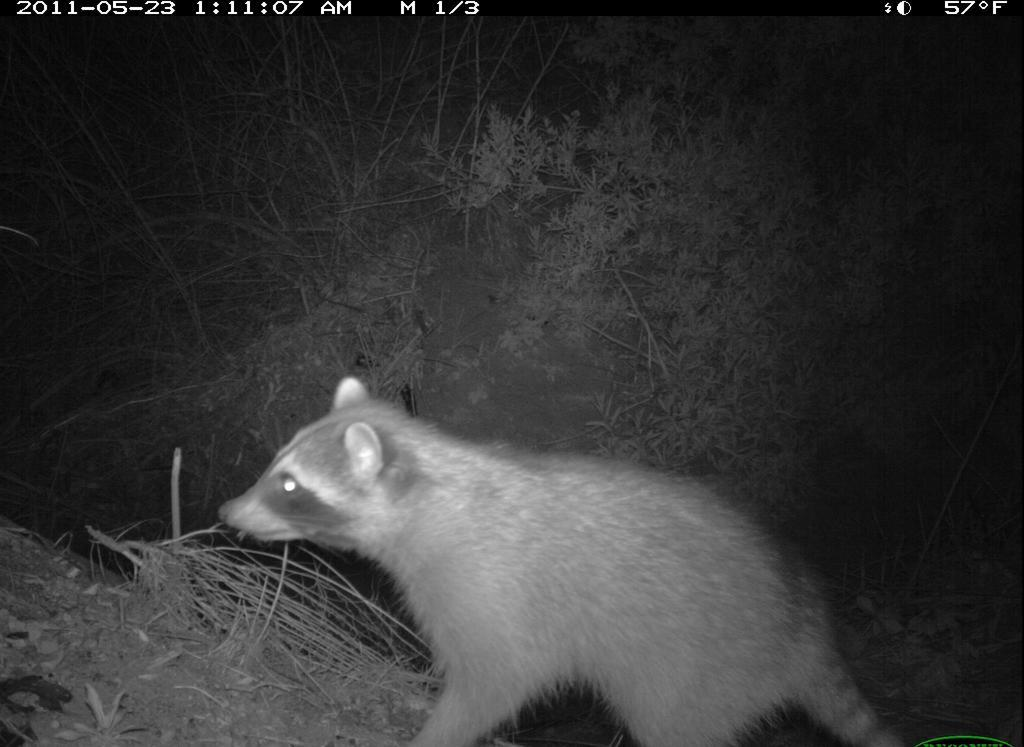raccoon: (218, 374, 904, 747)
